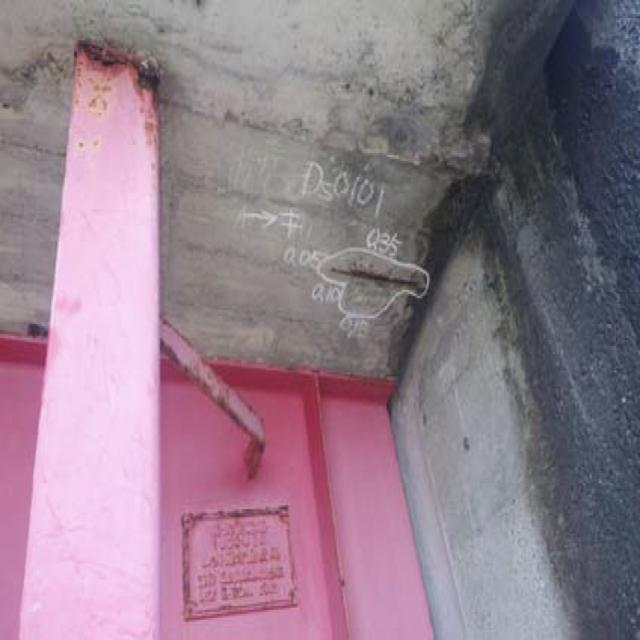corrosion: (63, 34, 191, 129)
spalling: (318, 240, 438, 326)
